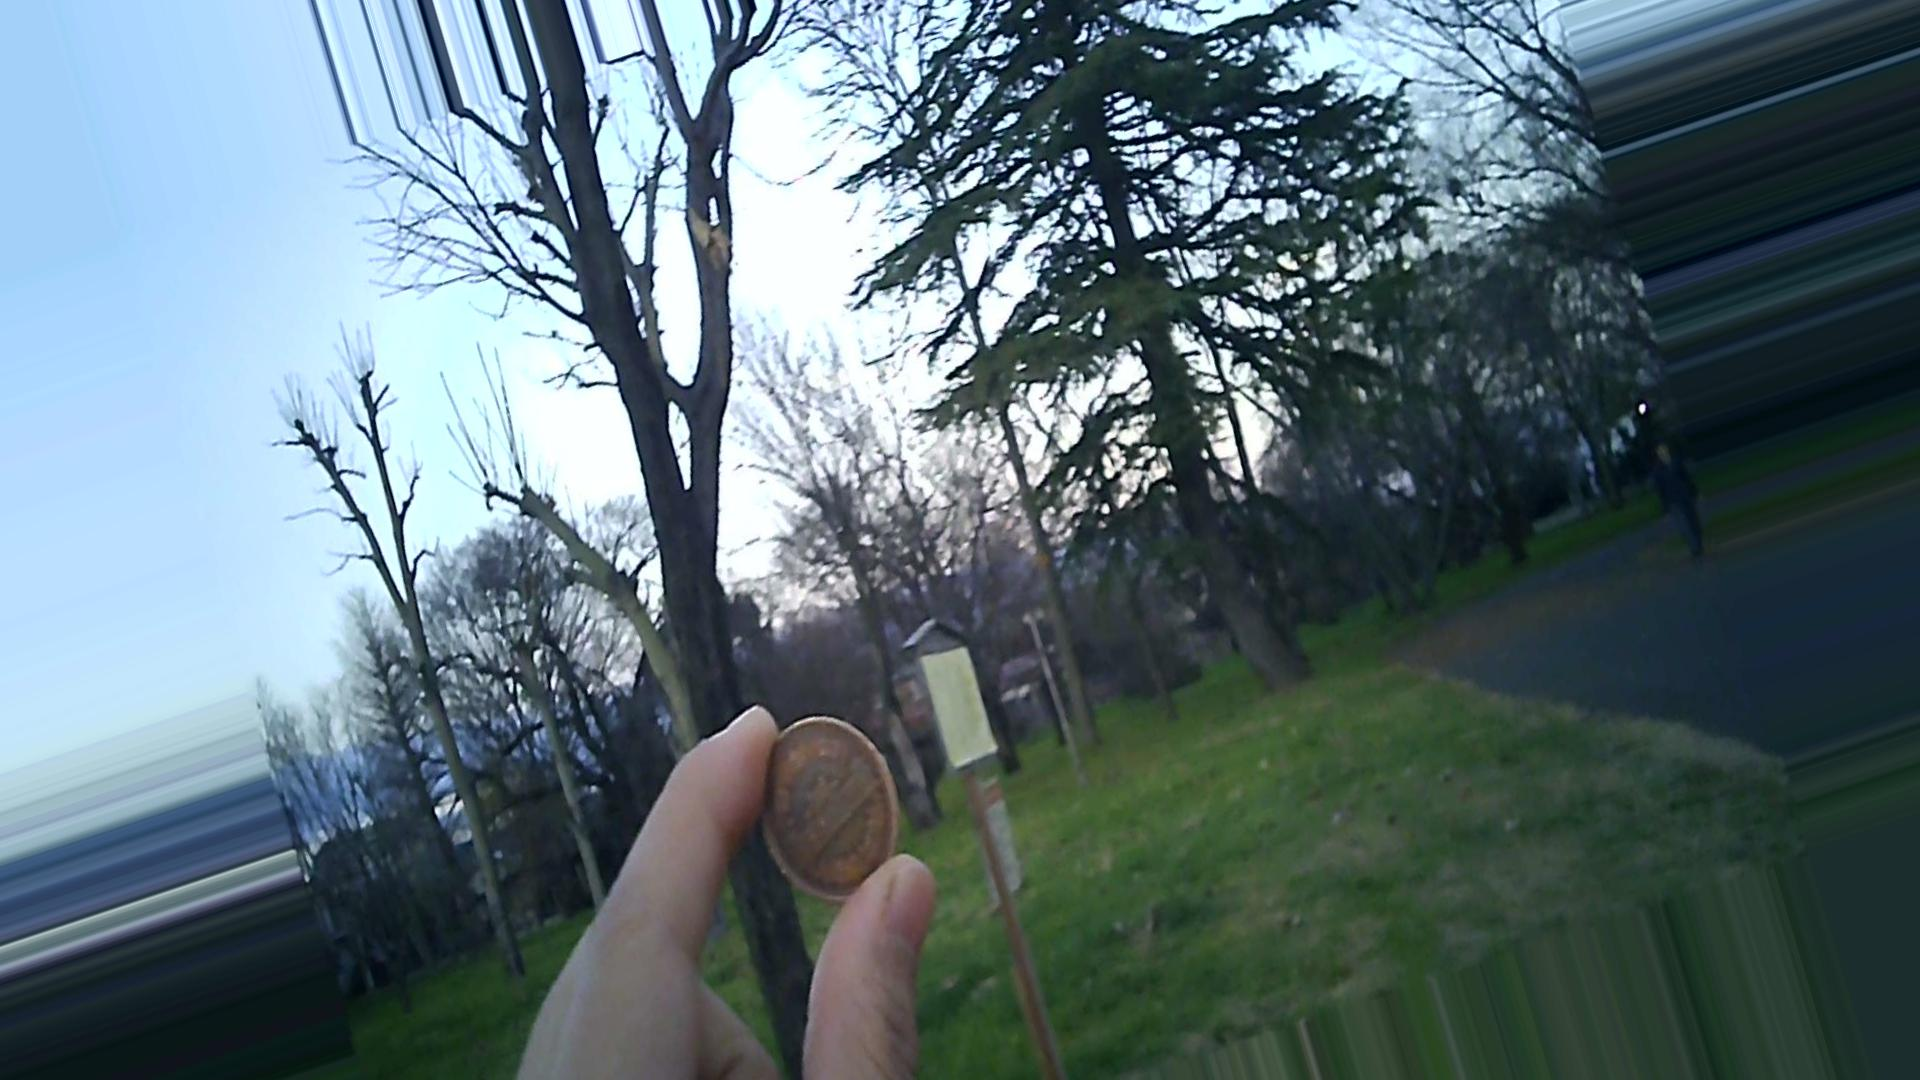10 Yen: (737, 712, 930, 890)
